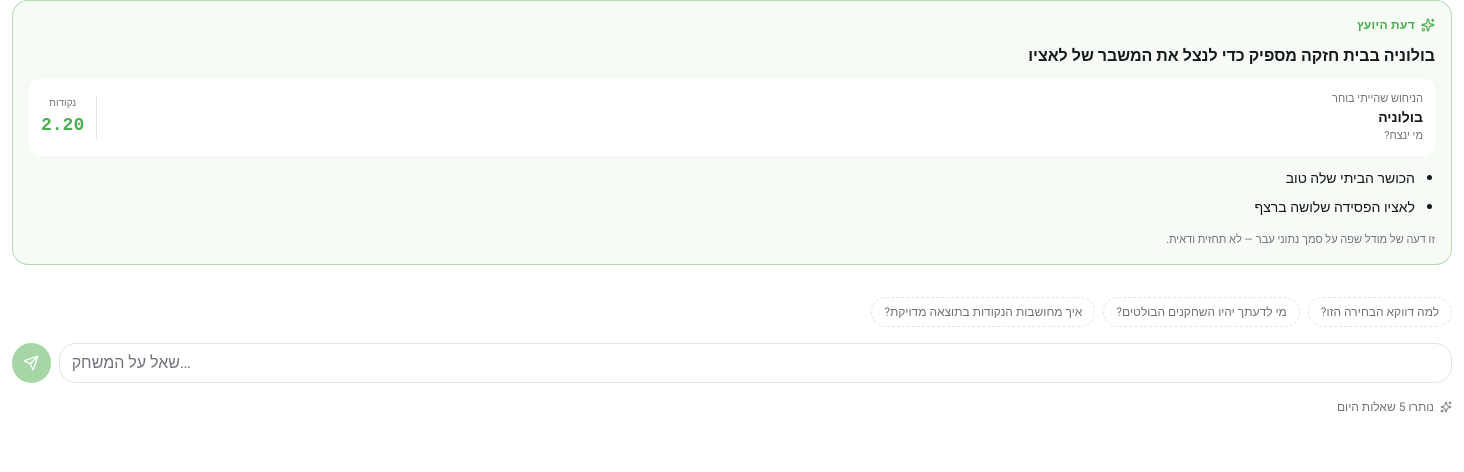
Scenario: §8.2 יועץ AI › AdvisorPanel › מציג סירוב כשהשאלה מחוץ לתחום
The width and height of the screenshot is (1464, 472).
Expected: the text "בולוניה בבית חזקה מספיק כדי לנצל את המשבר של לאציו" is shown, [1028,44,1435,68]
Type "מה מתכון לשקשוקה?" into the field with placeholder "שאל על המשחק…" at (755, 363), box [59,343,1452,383]
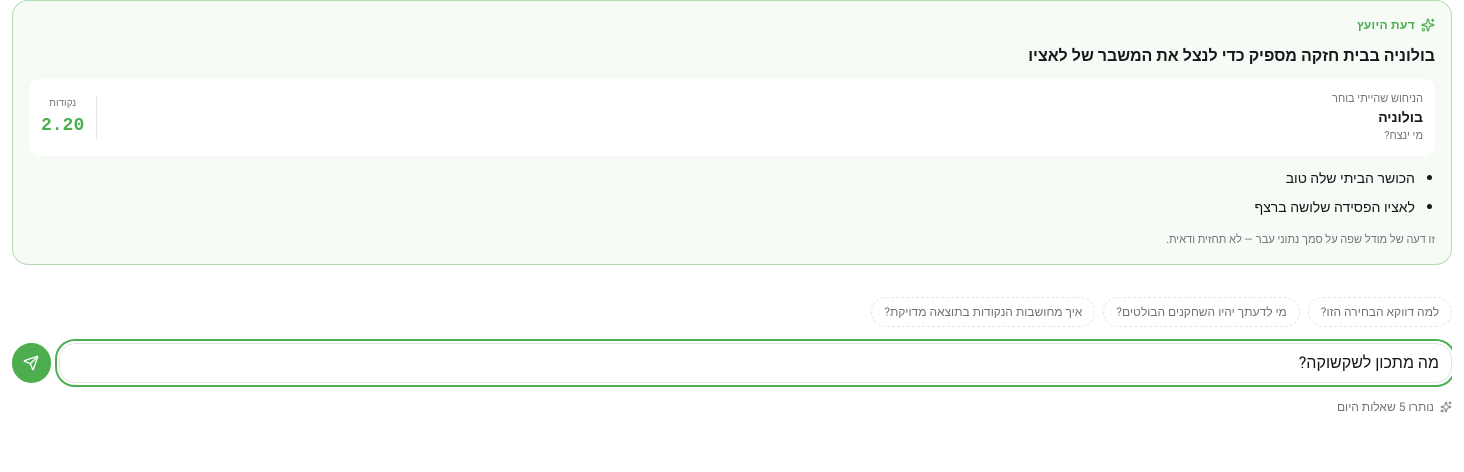
Click the button named "שלח" at (31, 363), box [12,343,51,383]
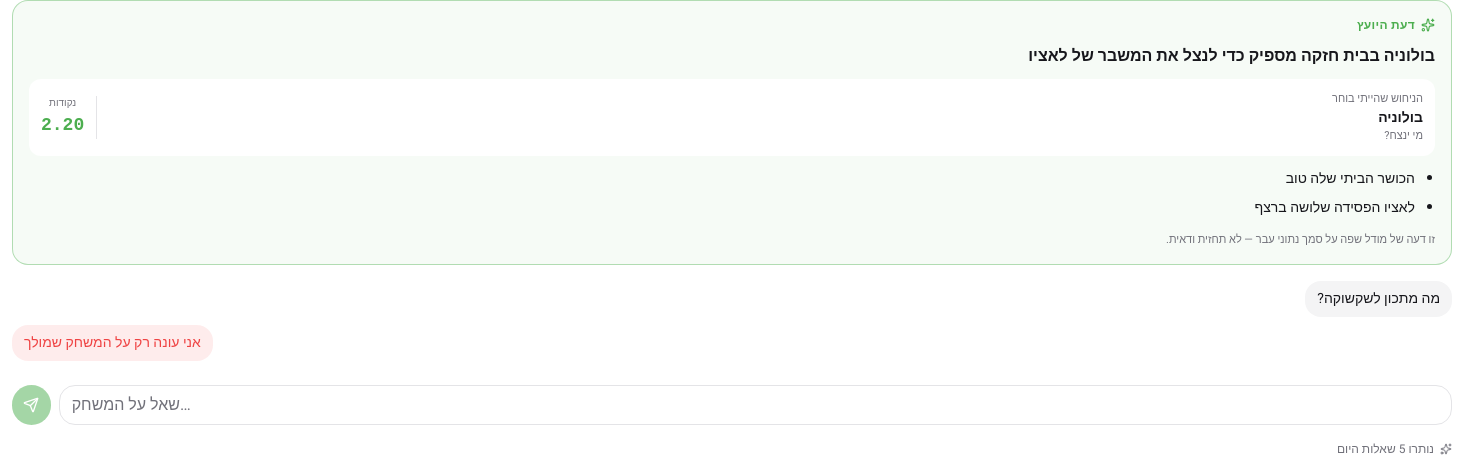
Now the text "אני עונה רק על המשחק שמולך" is shown, box [12,325,213,361]
